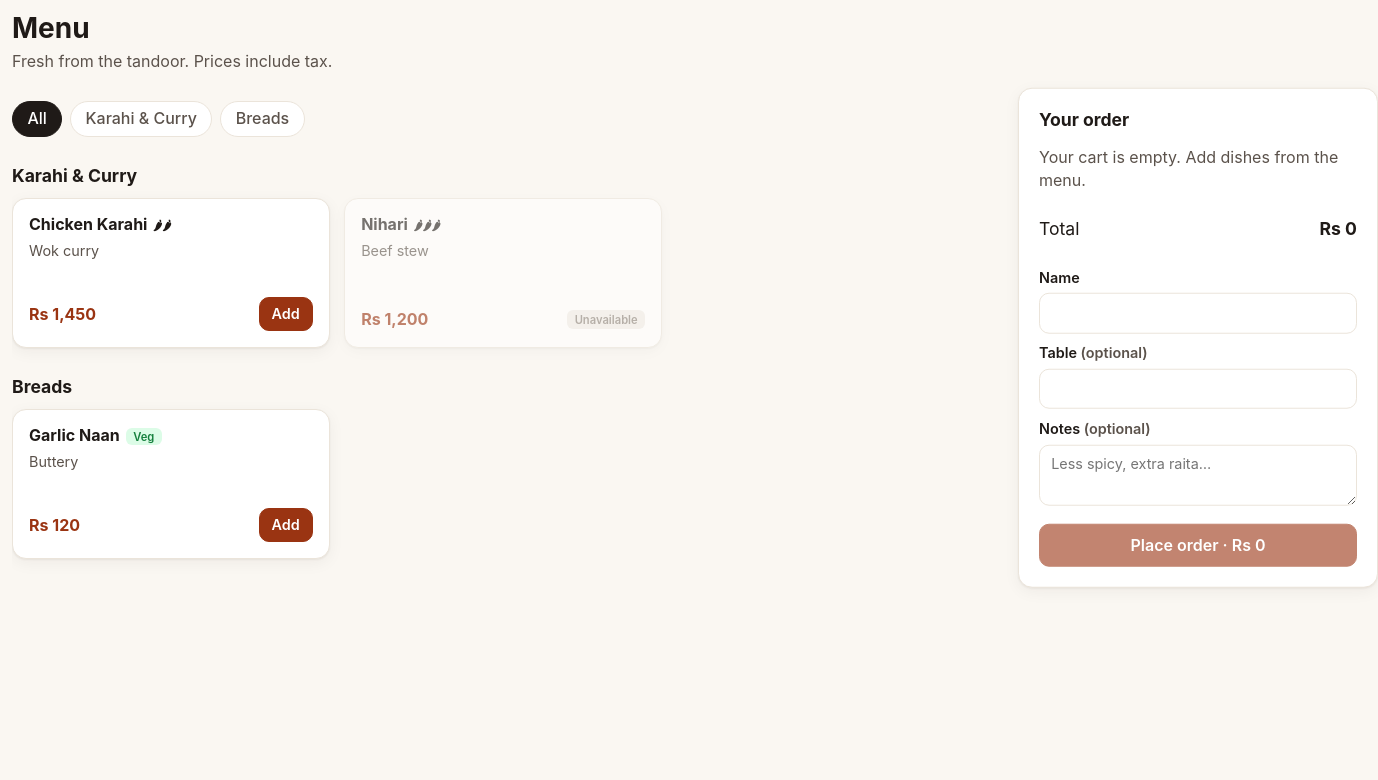
Test: OrderPage › shows server validation errors
Click the button with aria-label "Add Garlic Naan" at (286, 525), box [258, 508, 313, 542]
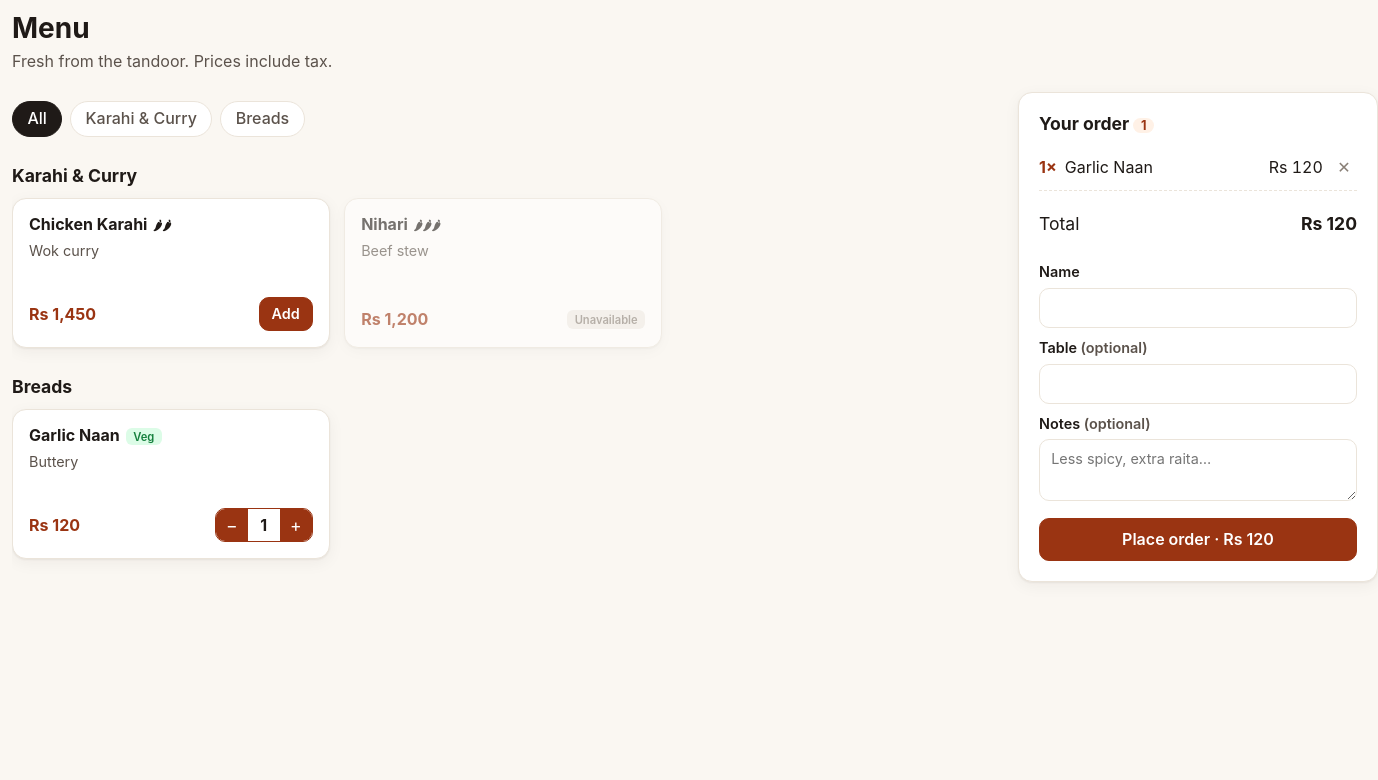
Type "Ali" into the field labelled "Name" at (1198, 308), box [1039, 288, 1357, 328]
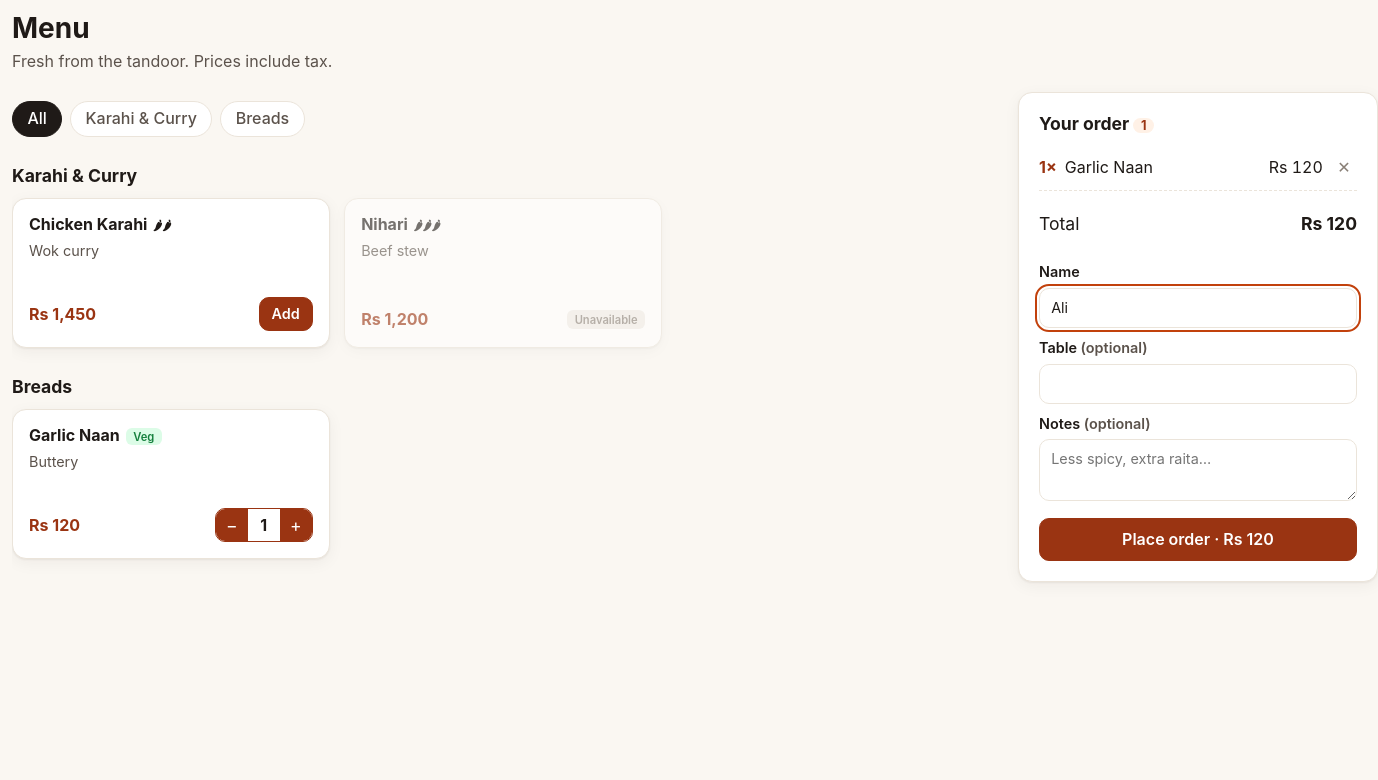
Click the button "Place order · Rs 120" at (1198, 540), box [1039, 518, 1357, 561]
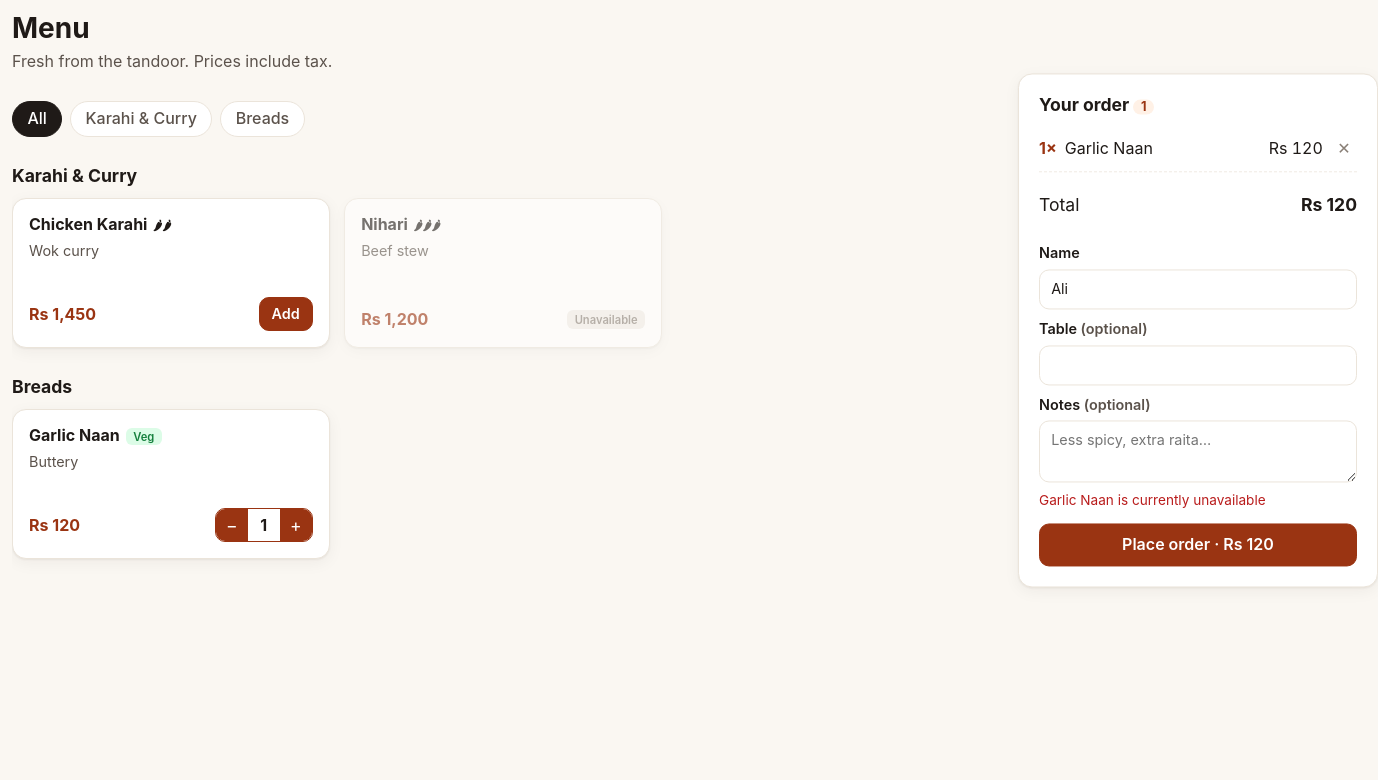
Check: the message reads "Garlic Naan is currently unavailable", box [1039, 493, 1266, 509]
